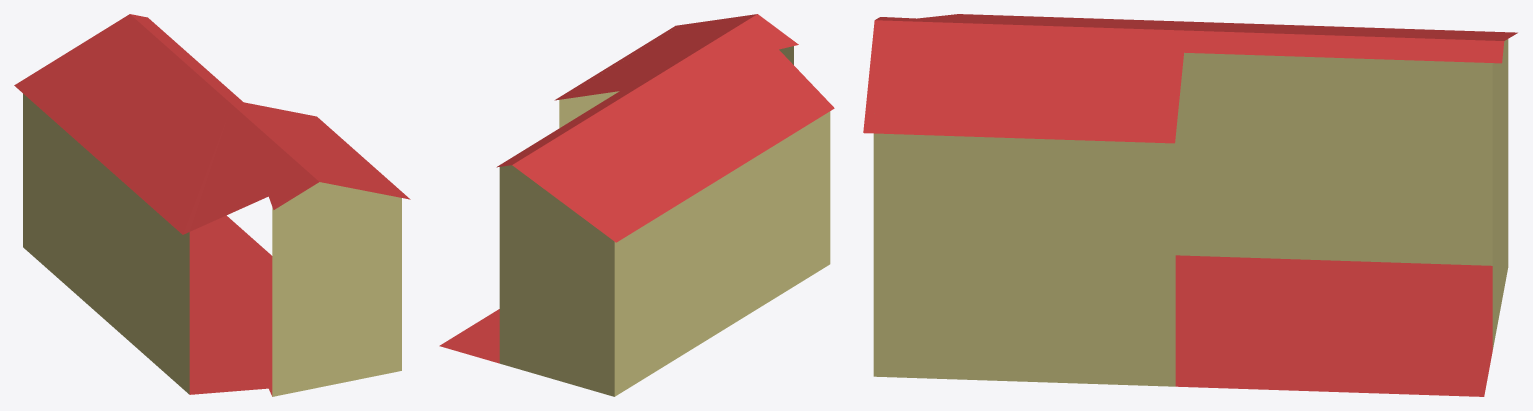
3 views of the same model, side by side, from view 1: azimuth 30°, elevation 25°; view 2: azimuth 150°, elevation 25°; view 3: azimuth 270°, elevation 25° (orthographic). The views are drawn at different scales.
Bounding box in the file's own units: 9.46 × 17.14 × 8.63.
